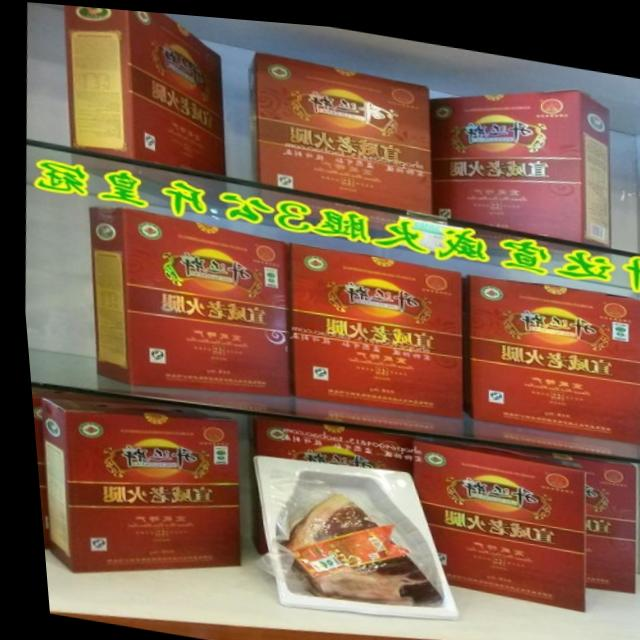box: (85, 206, 281, 393), (34, 399, 231, 572), (282, 237, 456, 413), (456, 267, 637, 434), (403, 428, 574, 603), (245, 48, 429, 207), (427, 79, 607, 238), (64, 4, 221, 172), (25, 386, 165, 549), (240, 410, 401, 549), (505, 439, 629, 582)
